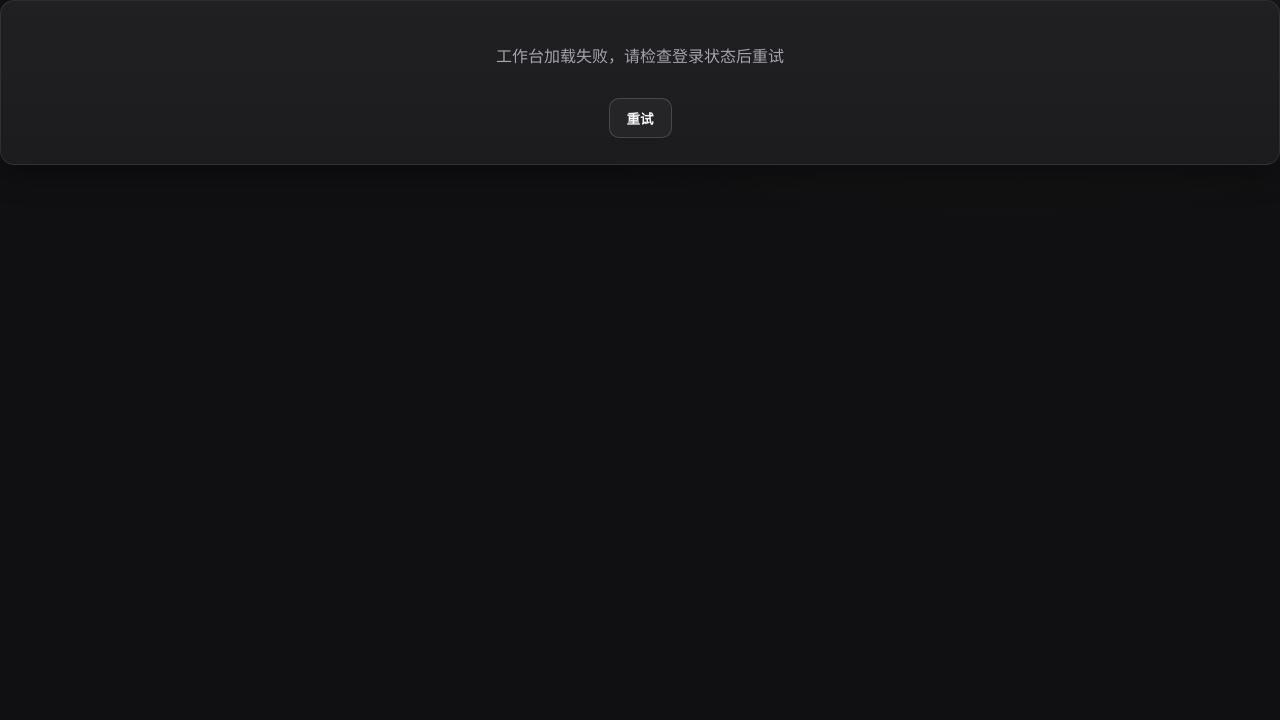
retries failed data and shows honest empty state
Click the button "重试" at (640, 118), box [608,98,672,138]
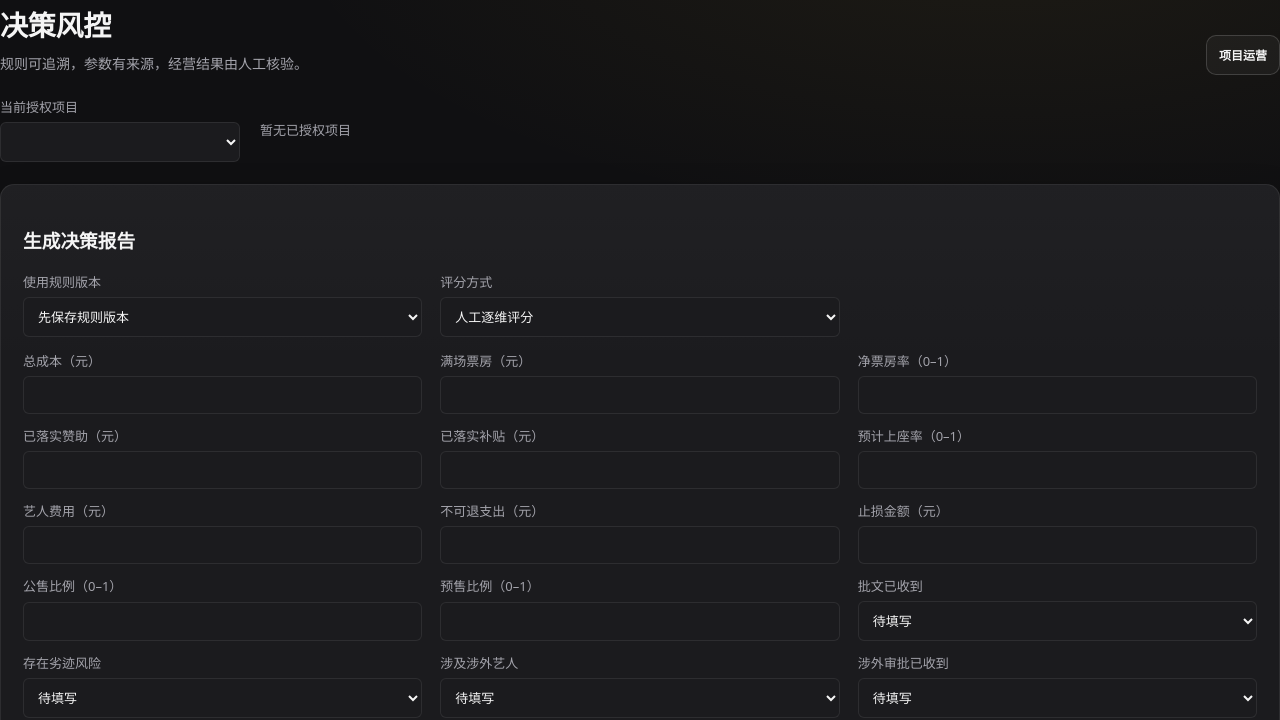
Result: the text "暂无已授权项目" is shown at [260,120,351,139]
